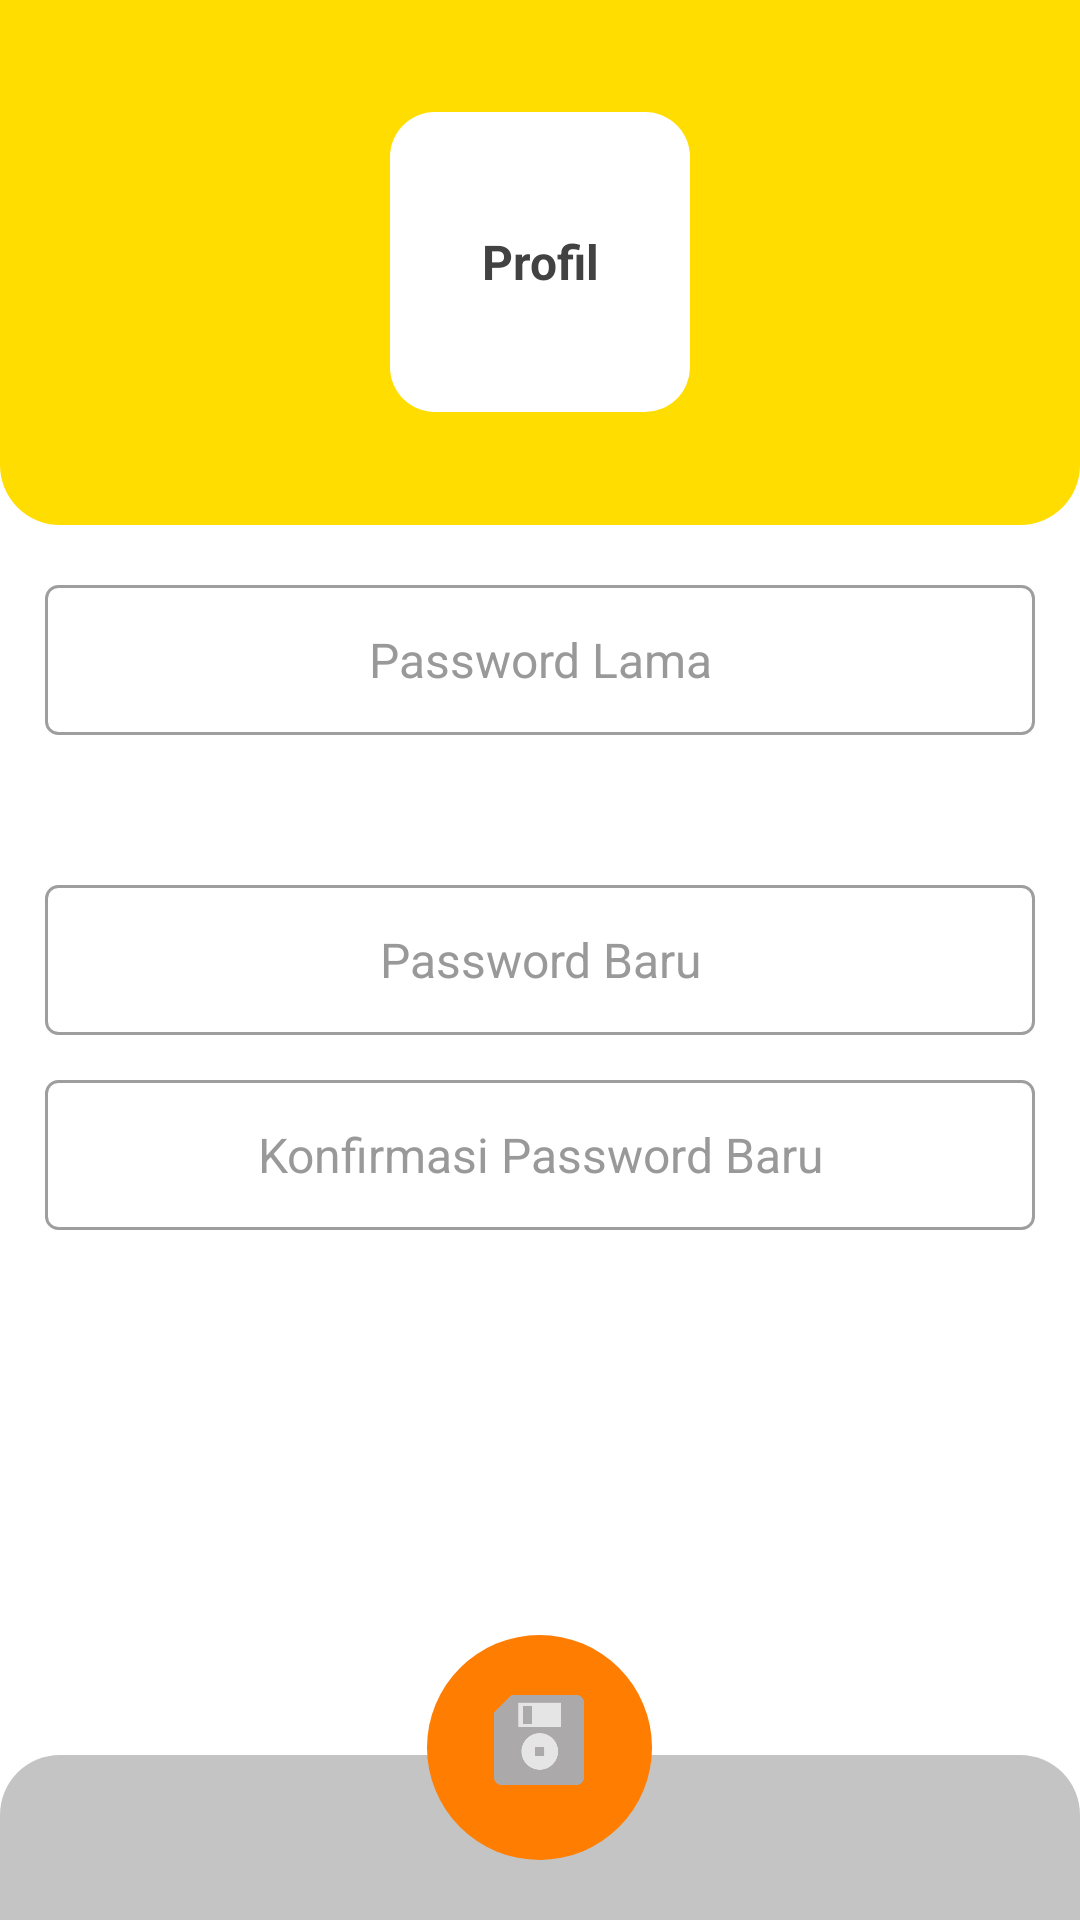

Where icons sit on this 1080*1920 app screen, as (x1, y1, x2, y2):
save: (494, 1695, 584, 1785)
